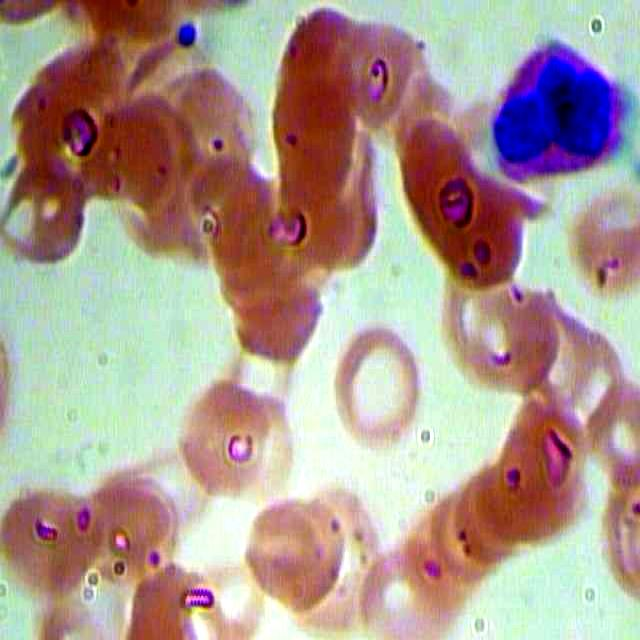Platelets: (173, 17, 204, 55)
RBC: (80, 92, 180, 231), (390, 120, 489, 259), (240, 482, 344, 614), (81, 448, 185, 580), (1, 145, 99, 284), (1, 458, 103, 590), (326, 313, 422, 451), (173, 363, 269, 500), (223, 364, 319, 501), (230, 244, 326, 381), (162, 55, 258, 192), (349, 530, 445, 640), (475, 425, 571, 535), (495, 405, 591, 515), (386, 515, 482, 624), (410, 480, 506, 589), (451, 452, 547, 561), (437, 268, 533, 377), (470, 279, 566, 388), (506, 296, 602, 405), (555, 185, 640, 294), (184, 137, 269, 245), (343, 18, 428, 126)
WBC: (491, 28, 633, 192)
